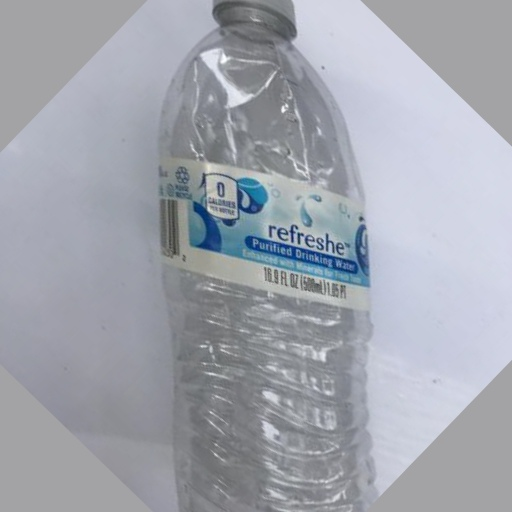Plastic_0: (157, 1, 373, 512)
